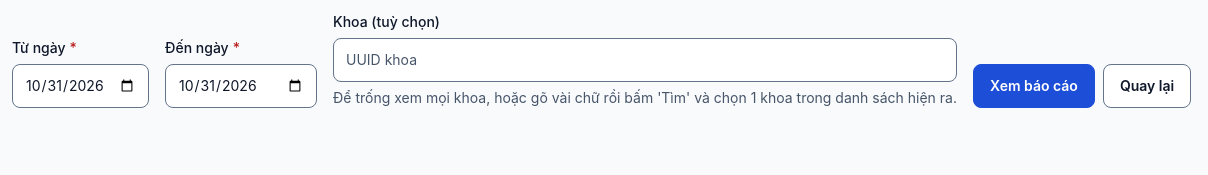
Scenario: RevenueReport › omits the department filter entirely when left blank
This screenshot has width=1208, height=175.
Click the button "Xem báo cáo" at (1034, 86), box [973,64,1095,108]
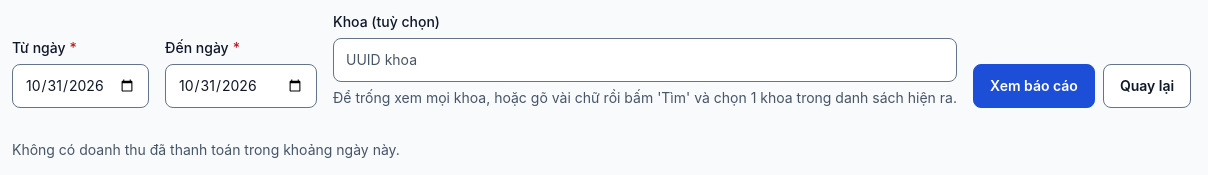
Now the text "Không có doanh thu đã thanh toán trong khoảng ngày này." is shown, box [12,141,400,158]
